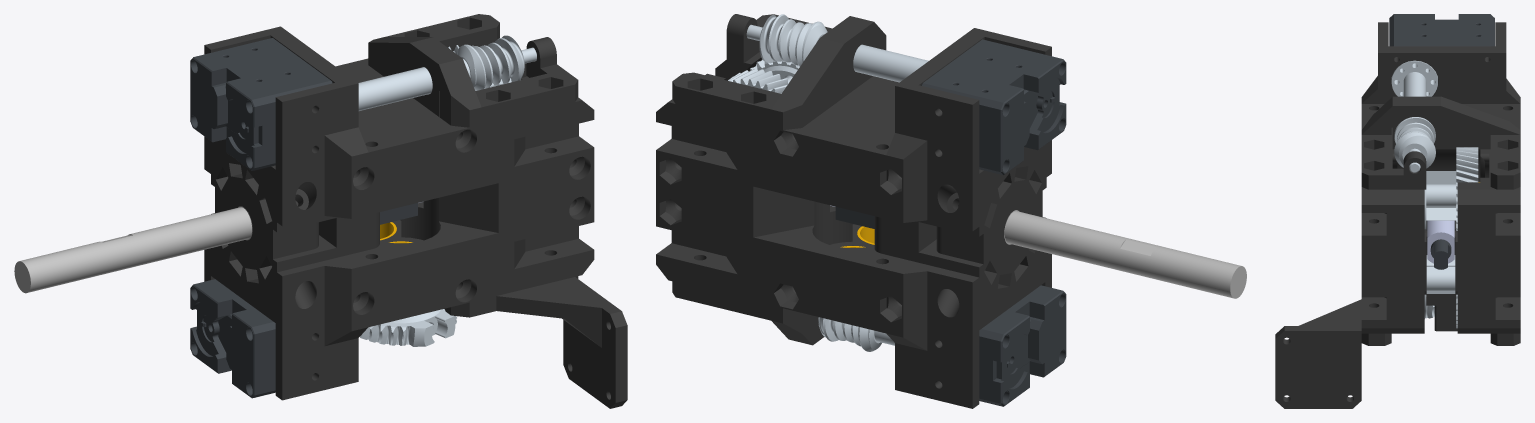
File: Diff Wrist Output.glb
The picture shows the model from 3 angles, left to right: view 1: azimuth 30°, elevation 25°; view 2: azimuth 150°, elevation 25°; view 3: azimuth 270°, elevation 25°; orthographic projection. The views are drawn at different scales.
Visible parts, largest first — view 1: Diff Wrist Output; view 2: Diff Wrist Output; view 3: Diff Wrist Output.
Part boxes in pixels (bbox=[...]): Diff Wrist Output: bbox=[14, 14, 627, 408]; Diff Wrist Output: bbox=[656, 14, 1246, 408]; Diff Wrist Output: bbox=[1275, 14, 1520, 408].
Size of the model in its own units: 0.2193 by 0.1328 by 0.108.
